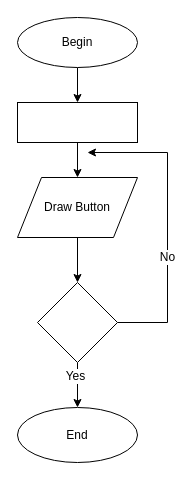
Image size: 193x480. Some labels were removed from this diagram. The shapes that lost their labels are listed below. From the top down, each one's centre as x and y in pixels, then its label:
[77,122]: Show Button
[77,322]: is button visible
